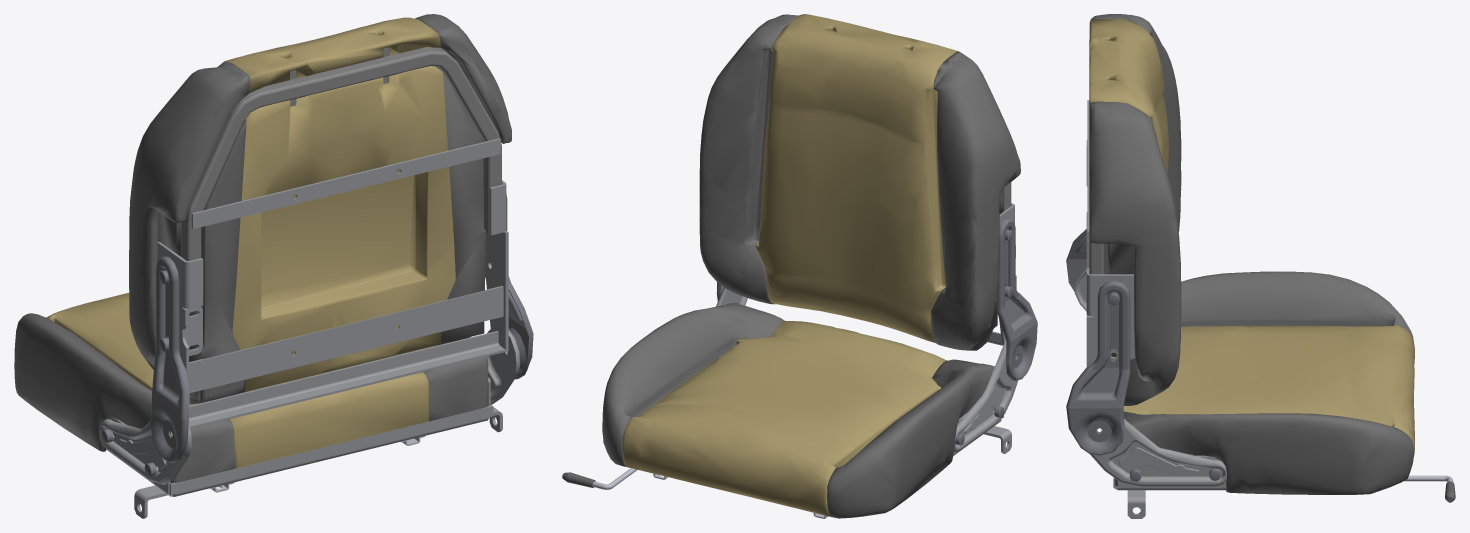
The picture shows the model from 3 angles, left to right: view 1: azimuth 30°, elevation 25°; view 2: azimuth 150°, elevation 25°; view 3: azimuth 270°, elevation 25°; orthographic projection. The views are drawn at different scales.
Visible parts, largest first — view 1: Split1[1], Металл, Split1[2], Split1[1].001, Split2[2], Split1[3], Рама, Fillet7.001, Mirror1.002, Fillet7, Fillet5; view 2: Split1[1], Split2[2], Split1[1].001, Split1[2], Split1[3], Fillet7.001, Mirror1.002, Металл, Boss-Extrude1; view 3: Split1[1].001, Split2[2], Split1[3], Fillet7, Split1[1], Fillet5, Металл, Split1[2], Fillet7.001, Рама, Boss-Extrude1.
Boxes of the visible parts, bbox=[...] form: Split1[1]: bbox=[219, 17, 455, 393]; Металл: bbox=[106, 138, 508, 518]; Split1[2]: bbox=[129, 61, 250, 404]; Split1[1].001: bbox=[14, 313, 488, 483]; Split2[2]: bbox=[46, 292, 429, 468]; Split1[3]: bbox=[415, 14, 511, 345]; Рама: bbox=[181, 47, 501, 260]; Fillet7.001: bbox=[151, 256, 189, 462]; Mirror1.002: bbox=[99, 419, 191, 484]; Fillet7: bbox=[485, 193, 533, 379]; Fillet5: bbox=[487, 329, 520, 404]; Split1[1]: bbox=[755, 14, 957, 342]; Split2[2]: bbox=[622, 321, 946, 516]; Split1[1].001: bbox=[602, 303, 994, 518]; Split1[2]: bbox=[930, 51, 1020, 350]; Split1[3]: bbox=[699, 14, 799, 304]; Fillet7.001: bbox=[996, 218, 1037, 380]; Mirror1.002: bbox=[954, 340, 1018, 452]; Металл: bbox=[953, 203, 1016, 455]; Boss-Extrude1: bbox=[562, 468, 667, 489]; Split1[1].001: bbox=[1115, 271, 1414, 494]; Split2[2]: bbox=[1123, 324, 1414, 455]; Split1[3]: bbox=[1089, 101, 1181, 405]; Fillet7: bbox=[1066, 280, 1130, 455]; Split1[1]: bbox=[1089, 19, 1168, 172]; Fillet5: bbox=[1089, 419, 1226, 486]; Металл: bbox=[1086, 100, 1225, 518]; Split1[2]: bbox=[1090, 14, 1181, 231]; Fillet7.001: bbox=[1066, 229, 1086, 291]; Рама: bbox=[1089, 40, 1103, 274]; Boss-Extrude1: bbox=[1404, 475, 1455, 502].
Size of the model in its own units: 3.75 by 4.4 by 4.05.
